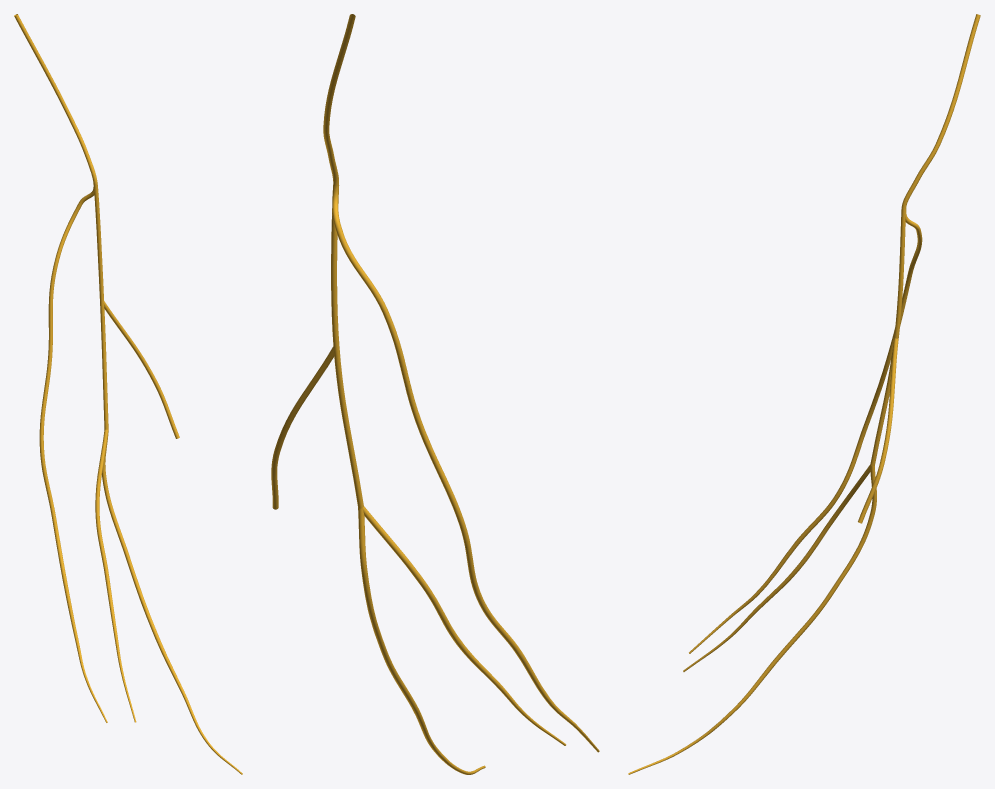
File: nervoso-superficial-branch-of-ulnar-nerve-l.glb
3 renders of one model, left to right at view 1: azimuth 30°, elevation 25°; view 2: azimuth 150°, elevation 25°; view 3: azimuth 270°, elevation 25°, orthographic. The views are drawn at different scales.
Visible parts, largest first — view 1: Proper palmar digital branches of ulnar nerve.l, Common palmar digital branches of ulnar nerve.l, Superficial branch of ulnar nerve.l; view 2: Proper palmar digital branches of ulnar nerve.l, Common palmar digital branches of ulnar nerve.l, Superficial branch of ulnar nerve.l; view 3: Proper palmar digital branches of ulnar nerve.l, Common palmar digital branches of ulnar nerve.l, Superficial branch of ulnar nerve.l.
Boxes of the visible parts, bbox=[...] form: Proper palmar digital branches of ulnar nerve.l: bbox=[39, 183, 242, 774]; Common palmar digital branches of ulnar nerve.l: bbox=[93, 183, 179, 438]; Superficial branch of ulnar nerve.l: bbox=[14, 14, 97, 183]; Proper palmar digital branches of ulnar nerve.l: bbox=[332, 185, 599, 774]; Common palmar digital branches of ulnar nerve.l: bbox=[271, 185, 363, 509]; Superficial branch of ulnar nerve.l: bbox=[323, 14, 355, 186]; Proper palmar digital branches of ulnar nerve.l: bbox=[628, 209, 922, 774]; Common palmar digital branches of ulnar nerve.l: bbox=[858, 209, 905, 523]; Superficial branch of ulnar nerve.l: bbox=[901, 14, 980, 209].
Bounding box in the file's own units: 0.0416 × 0.1706 × 0.0752.
